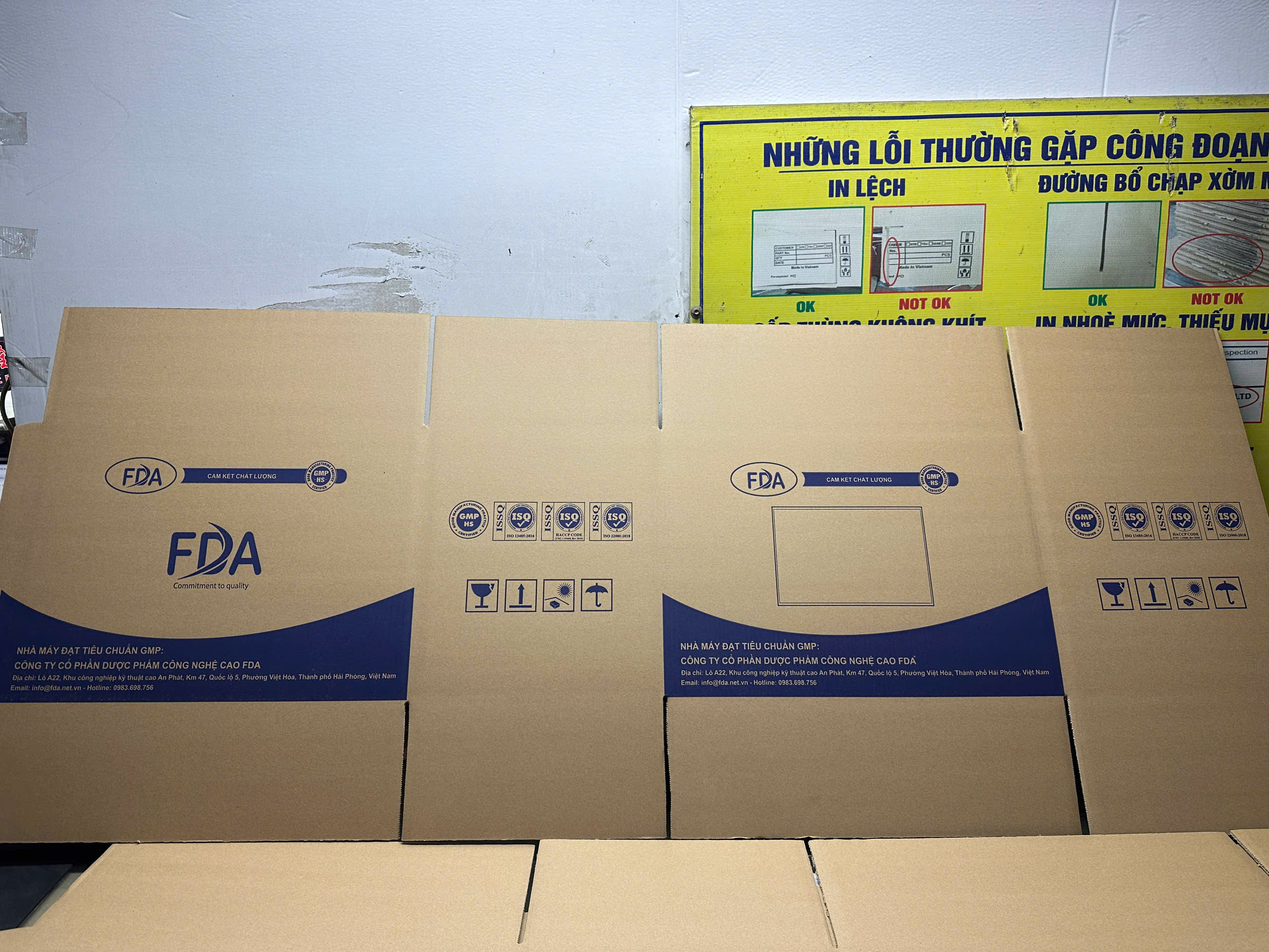box: (0, 309, 1269, 842)
